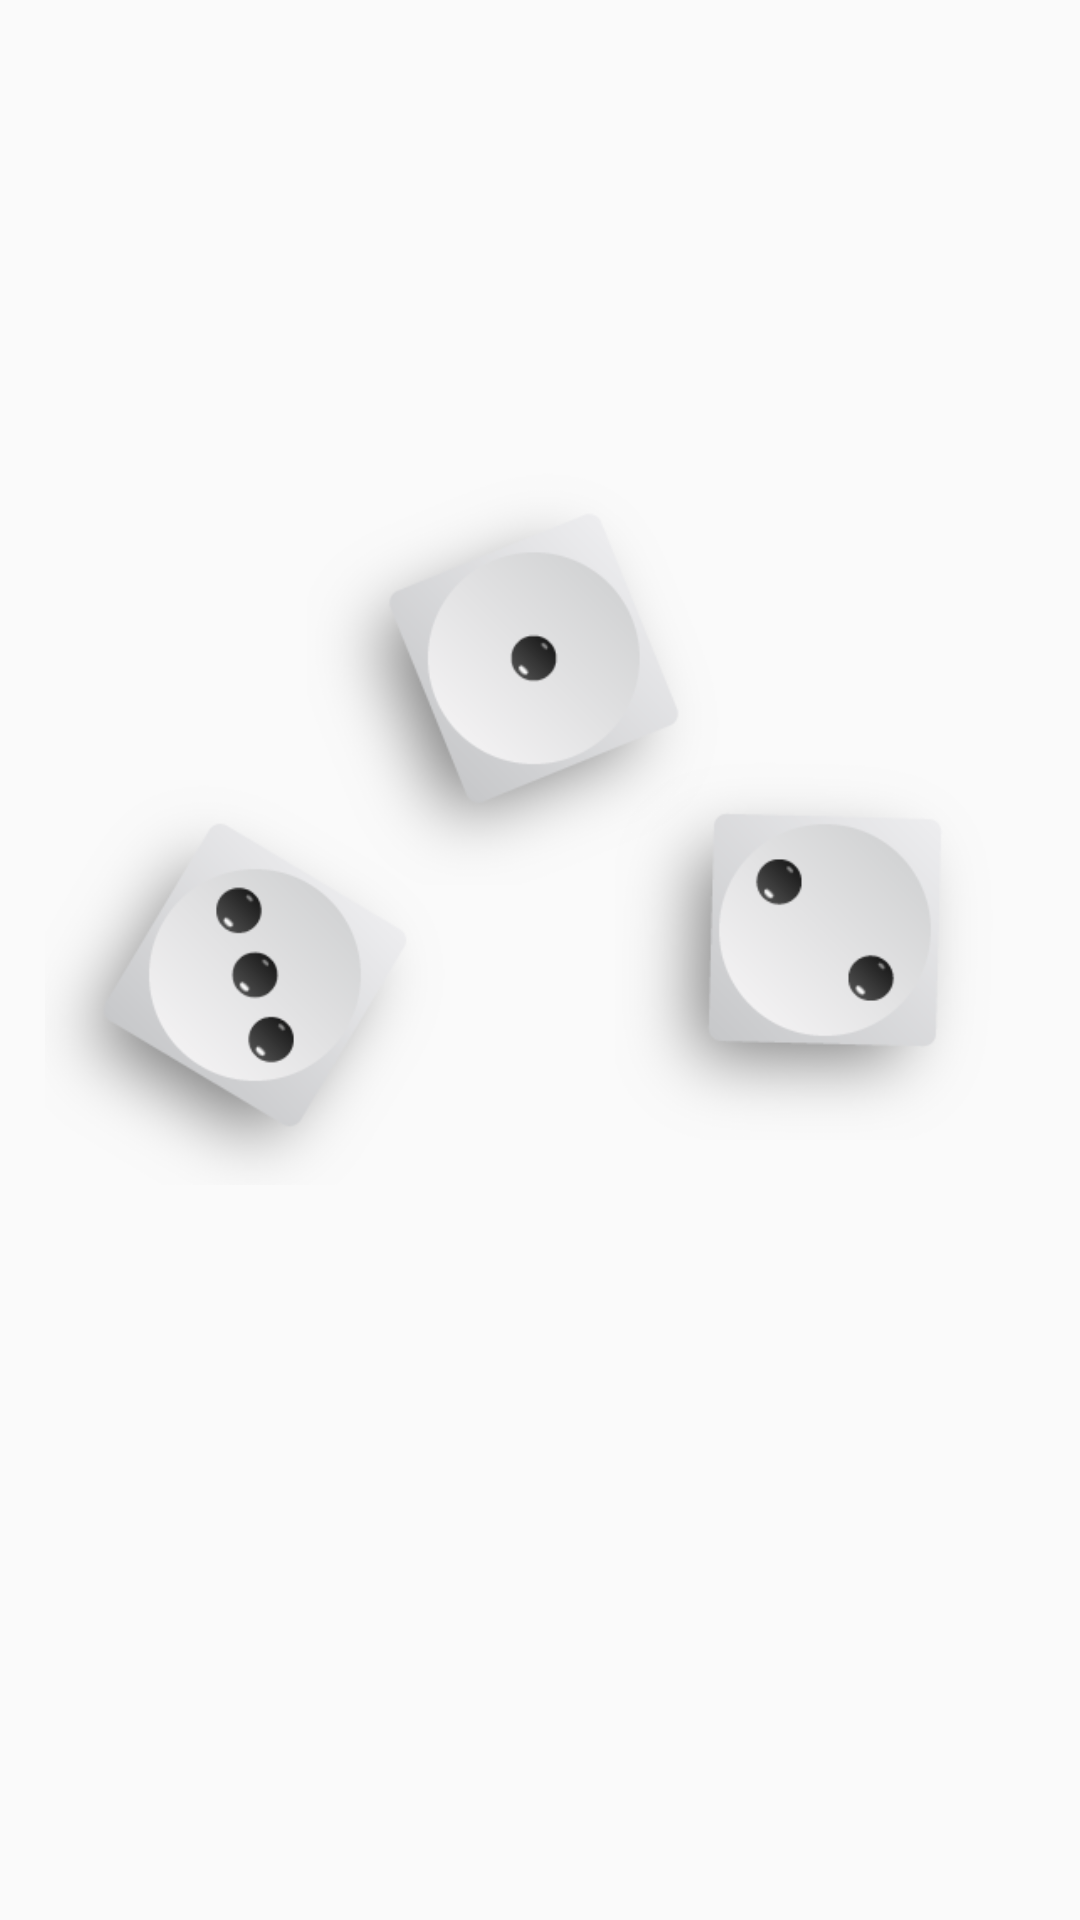

Locate icon controls on the screen. Image size 1080w x 1920h, boxes as {"left": x1, "top": y1, "right": x2, "bottom": y2}.
dice: {"left": 365, "top": 543, "right": 675, "bottom": 827}, {"left": 668, "top": 814, "right": 937, "bottom": 1087}, {"left": 82, "top": 846, "right": 376, "bottom": 1148}
